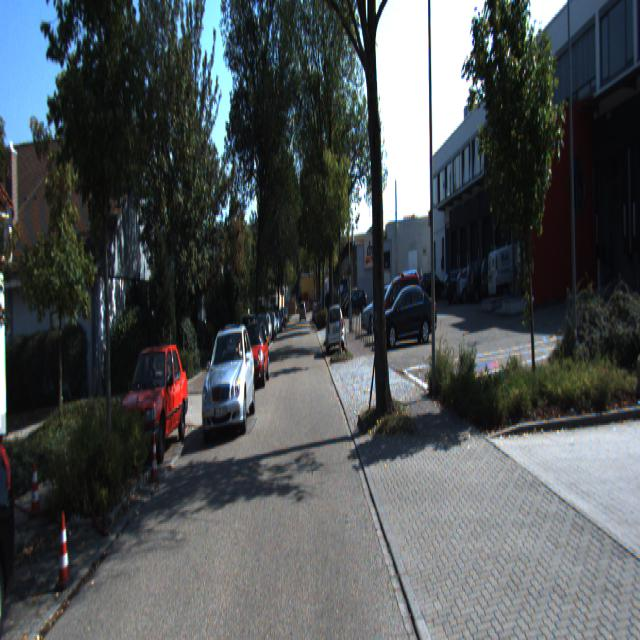Car: (112, 333, 189, 464), (198, 323, 258, 442), (377, 282, 439, 344), (374, 268, 426, 341), (487, 243, 542, 310), (239, 318, 270, 390), (326, 302, 345, 357)
